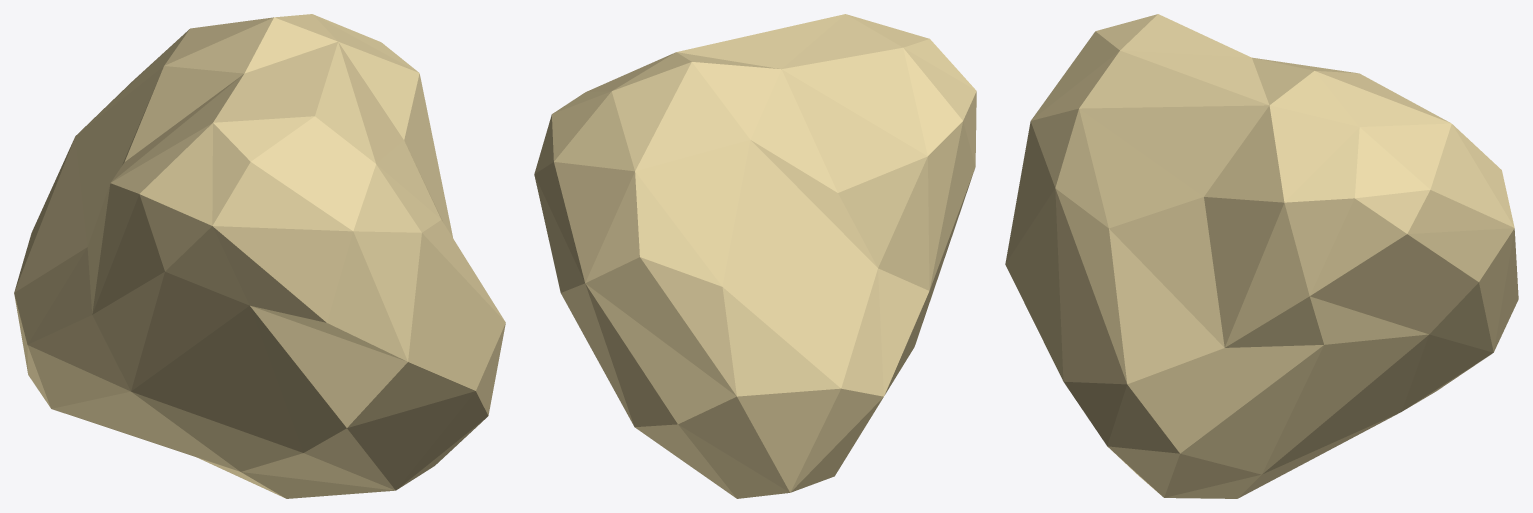
The model's file is Rock (17).fbx.
3 views of the same model, side by side, from view 1: azimuth 30°, elevation 25°; view 2: azimuth 150°, elevation 25°; view 3: azimuth 270°, elevation 25° (orthographic). The views are drawn at different scales.
Parts seen in each view (by area): view 1: Asteroid16; view 2: Asteroid16; view 3: Asteroid16.
Boxes of the visible parts, box(x1,y1,x2,y2) form: Asteroid16: box(14, 14, 505, 498); Asteroid16: box(534, 14, 976, 498); Asteroid16: box(1005, 14, 1518, 498).
Size of the model in its own units: 143 by 161 by 179.
